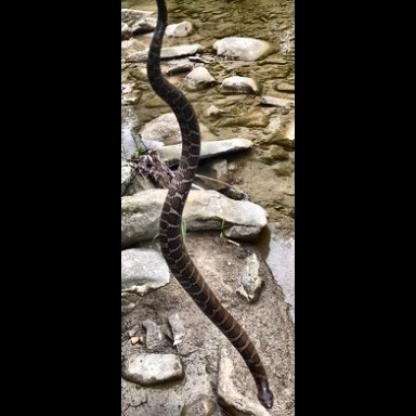Snake: (131, 9, 279, 414), (131, 0, 283, 172)
